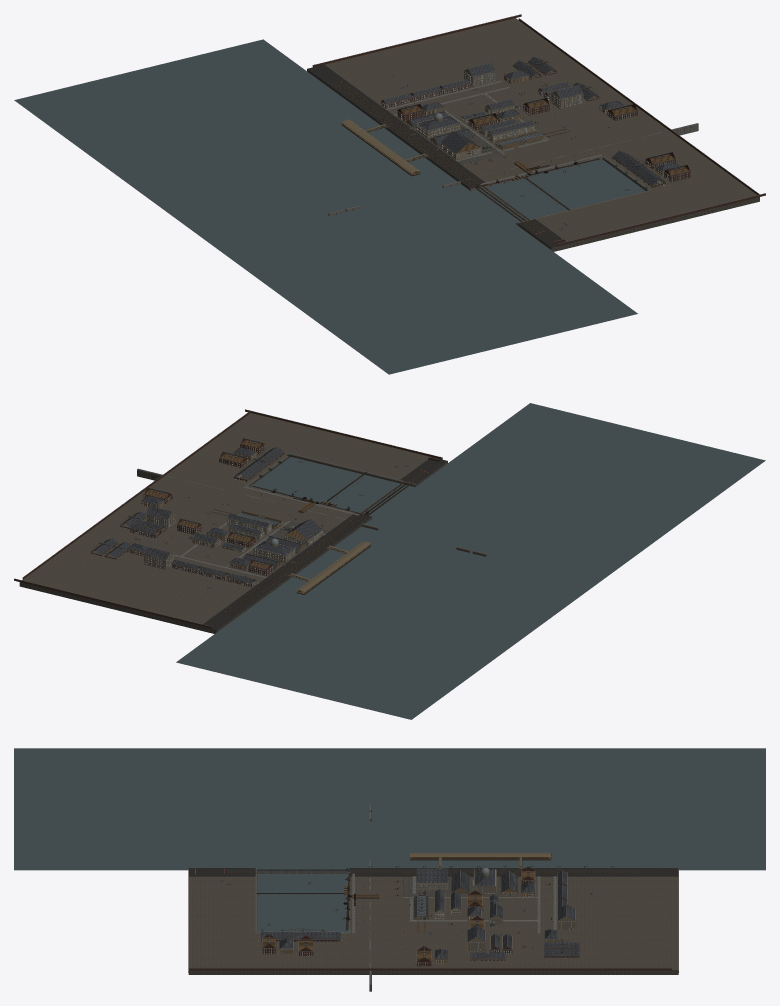
The model's file is port_a_full.fbx.
The picture shows the model from 3 angles, top to bottom: view 1: azimuth 30°, elevation 25°; view 2: azimuth 150°, elevation 25°; view 3: azimuth 270°, elevation 25°; orthographic projection. The views are drawn at different scales.
Parts seen in each view (by area): view 1: A_ground.001, A_rail.001, A_streets.001, A_landing_stage.001, A_terminal.001, A_customhouse.001, A_dock_shed.001; view 2: A_ground.001, A_rail.001, A_landing_stage.001, A_customhouse.001, A_streets.001, A_terminal.001, A_dock_shed.001; view 3: A_ground.001, A_rail.001, A_landing_stage.001, A_streets.001, A_dock_shed.001, A_terminal.001, A_customhouse.001, A_hotel.002, A_hotel.001.
Part boxes in pixels (x1=…): A_ground.001: x1=14, y1=18, x2=759, y2=374; A_rail.001: x1=330, y1=80, x2=599, y2=234; A_streets.001: x1=385, y1=81, x2=665, y2=186; A_landing_stage.001: x1=341, y1=119, x2=419, y2=176; A_terminal.001: x1=440, y1=131, x2=481, y2=159; A_customhouse.001: x1=416, y1=111, x2=460, y2=138; A_dock_shed.001: x1=612, y1=150, x2=665, y2=187; A_ground.001: x1=19, y1=403, x2=765, y2=719; A_rail.001: x1=210, y1=470, x2=428, y2=615; A_landing_stage.001: x1=296, y1=541, x2=370, y2=594; A_customhouse.001: x1=253, y1=537, x2=295, y2=562; A_streets.001: x1=174, y1=474, x2=359, y2=583; A_terminal.001: x1=284, y1=519, x2=322, y2=545; A_dock_shed.001: x1=234, y1=446, x2=284, y2=481; A_ground.001: x1=14, y1=748, x2=765, y2=974; A_rail.001: x1=222, y1=869, x2=639, y2=933; A_landing_stage.001: x1=410, y1=853, x2=551, y2=860; A_streets.001: x1=258, y1=873, x2=556, y2=941; A_dock_shed.001: x1=260, y1=928, x2=340, y2=941; A_terminal.001: x1=416, y1=868, x2=447, y2=889; A_customhouse.001: x1=472, y1=866, x2=496, y2=893; A_hotel.002: x1=467, y1=925, x2=485, y2=951; A_hotel.001: x1=557, y1=904, x2=575, y2=930.
Size of the model in its own units: 83978 by 4492 by 112000.
